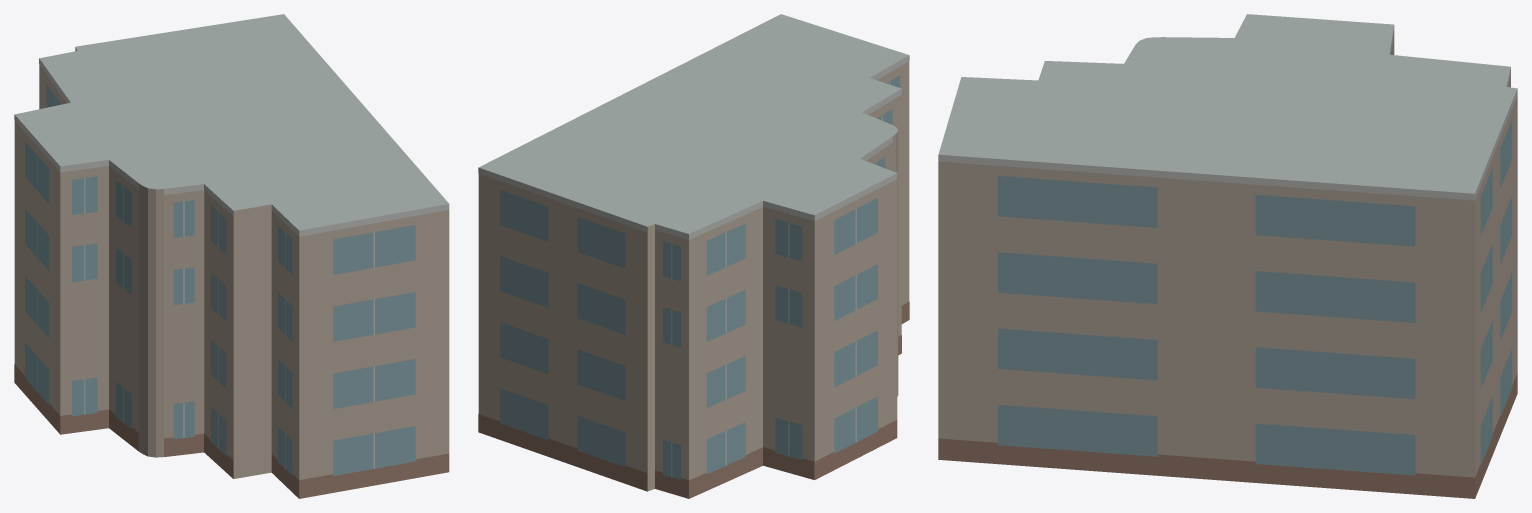
The model's file is survey-upis-32804924.glb.
The picture shows the model from 3 angles, left to right: view 1: azimuth 30°, elevation 25°; view 2: azimuth 150°, elevation 25°; view 3: azimuth 270°, elevation 25°; orthographic projection. The views are drawn at different scales.
Visible parts, largest first — view 1: survey-upis-32804924.tmp; view 2: survey-upis-32804924.tmp; view 3: survey-upis-32804924.tmp.
Boxes of the visible parts, <box> form: survey-upis-32804924.tmp: <box>14,14,449,498</box>; survey-upis-32804924.tmp: <box>478,14,909,498</box>; survey-upis-32804924.tmp: <box>938,14,1517,498</box>.
Bounding box in the file's own units: 13.66 × 10.8 × 18.59.
